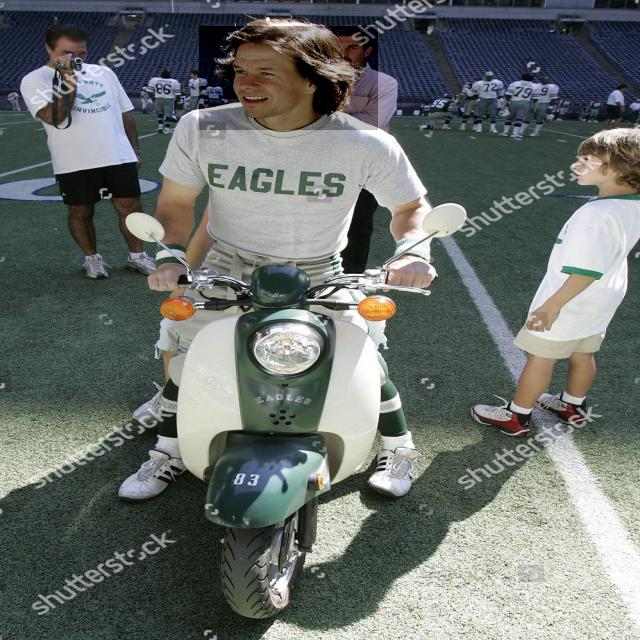No_Helmet: (199, 26, 378, 130)
